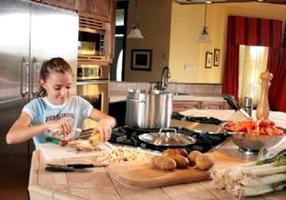person: (4, 57, 117, 147)
